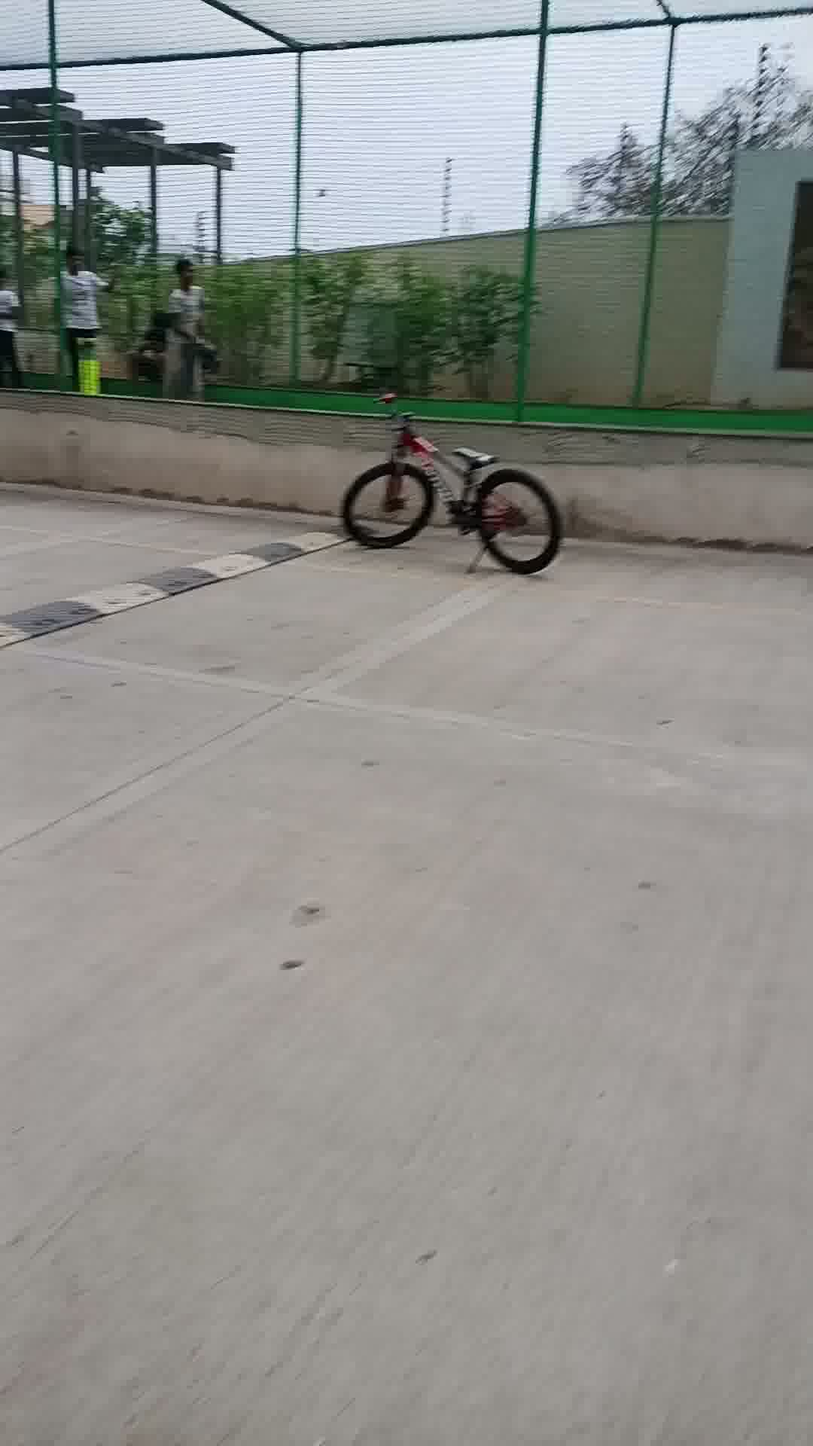bicycle: (322, 376, 586, 646)
person: (43, 216, 122, 410), (154, 239, 219, 427), (0, 228, 20, 425)
